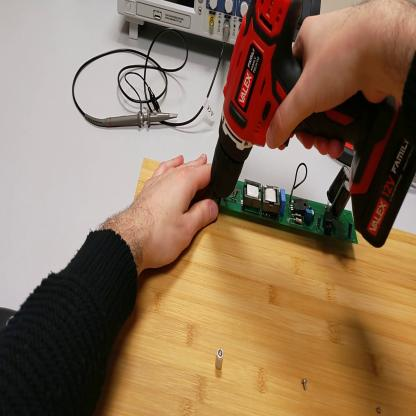electric screwdriver: (216, 2, 416, 251)
hand: (268, 9, 409, 156), (130, 153, 218, 275)
high voltage board: (201, 158, 368, 251)
oscilloscope: (118, 4, 252, 49)
oscilloscope probe tip: (109, 112, 179, 133)
working area: (94, 159, 416, 416)
